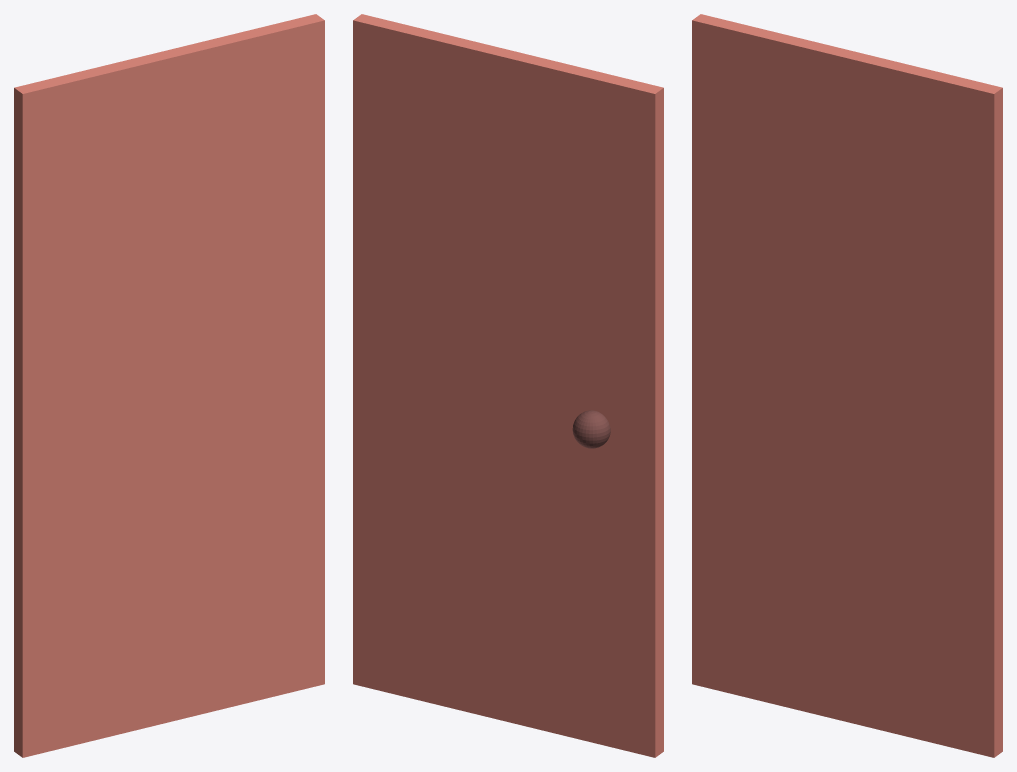
File: SM_Door.fbx
3 views of the same model, side by side, from view 1: azimuth 30°, elevation 25°; view 2: azimuth 150°, elevation 25°; view 3: azimuth 330°, elevation 25° (orthographic).
Visible parts, largest first — view 1: Door_End; view 2: Door_End; view 3: Door_End.
Boxes of the visible parts, box(x1,y1,x2,y2) form: Door_End: box(14, 14, 324, 757); Door_End: box(353, 14, 663, 757); Door_End: box(692, 14, 1002, 757).
Bounding box in the file's own units: 100 × 210 × 12.3.
